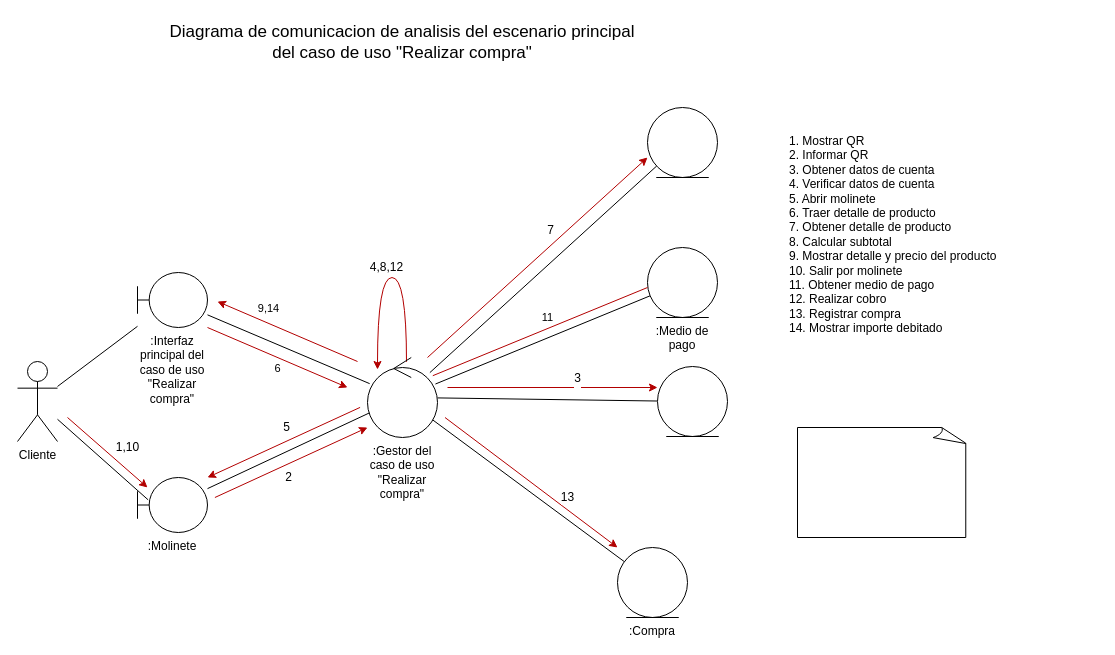
Some shapes in this 1115 by 655 pixel diagram are drawn without their labels. The shapes that lost their labels are listed below. From the top down, each one's centre as x and y in pixels, then its label:
At [682,142]: ":Producto".
At [692,401]: ":Cuenta".
At [882,482]: "Para cada producto que el cliente tome se repiten los pasos 6 al 9".
